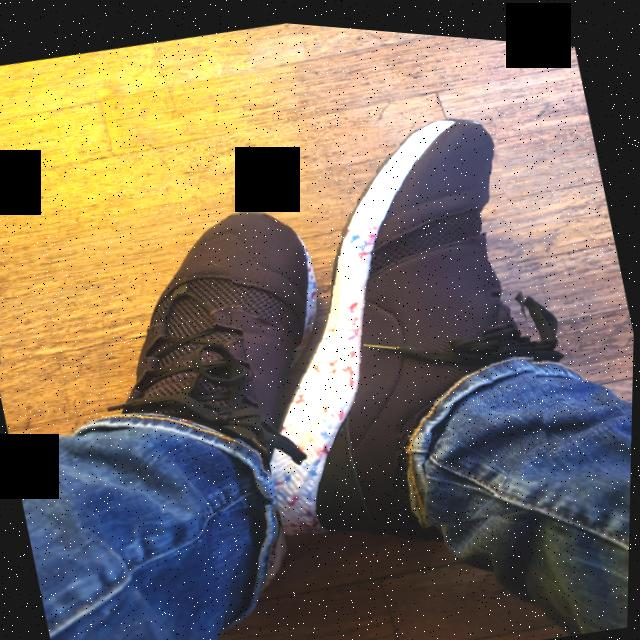shoe: (200, 84, 582, 564), (67, 167, 375, 537)
